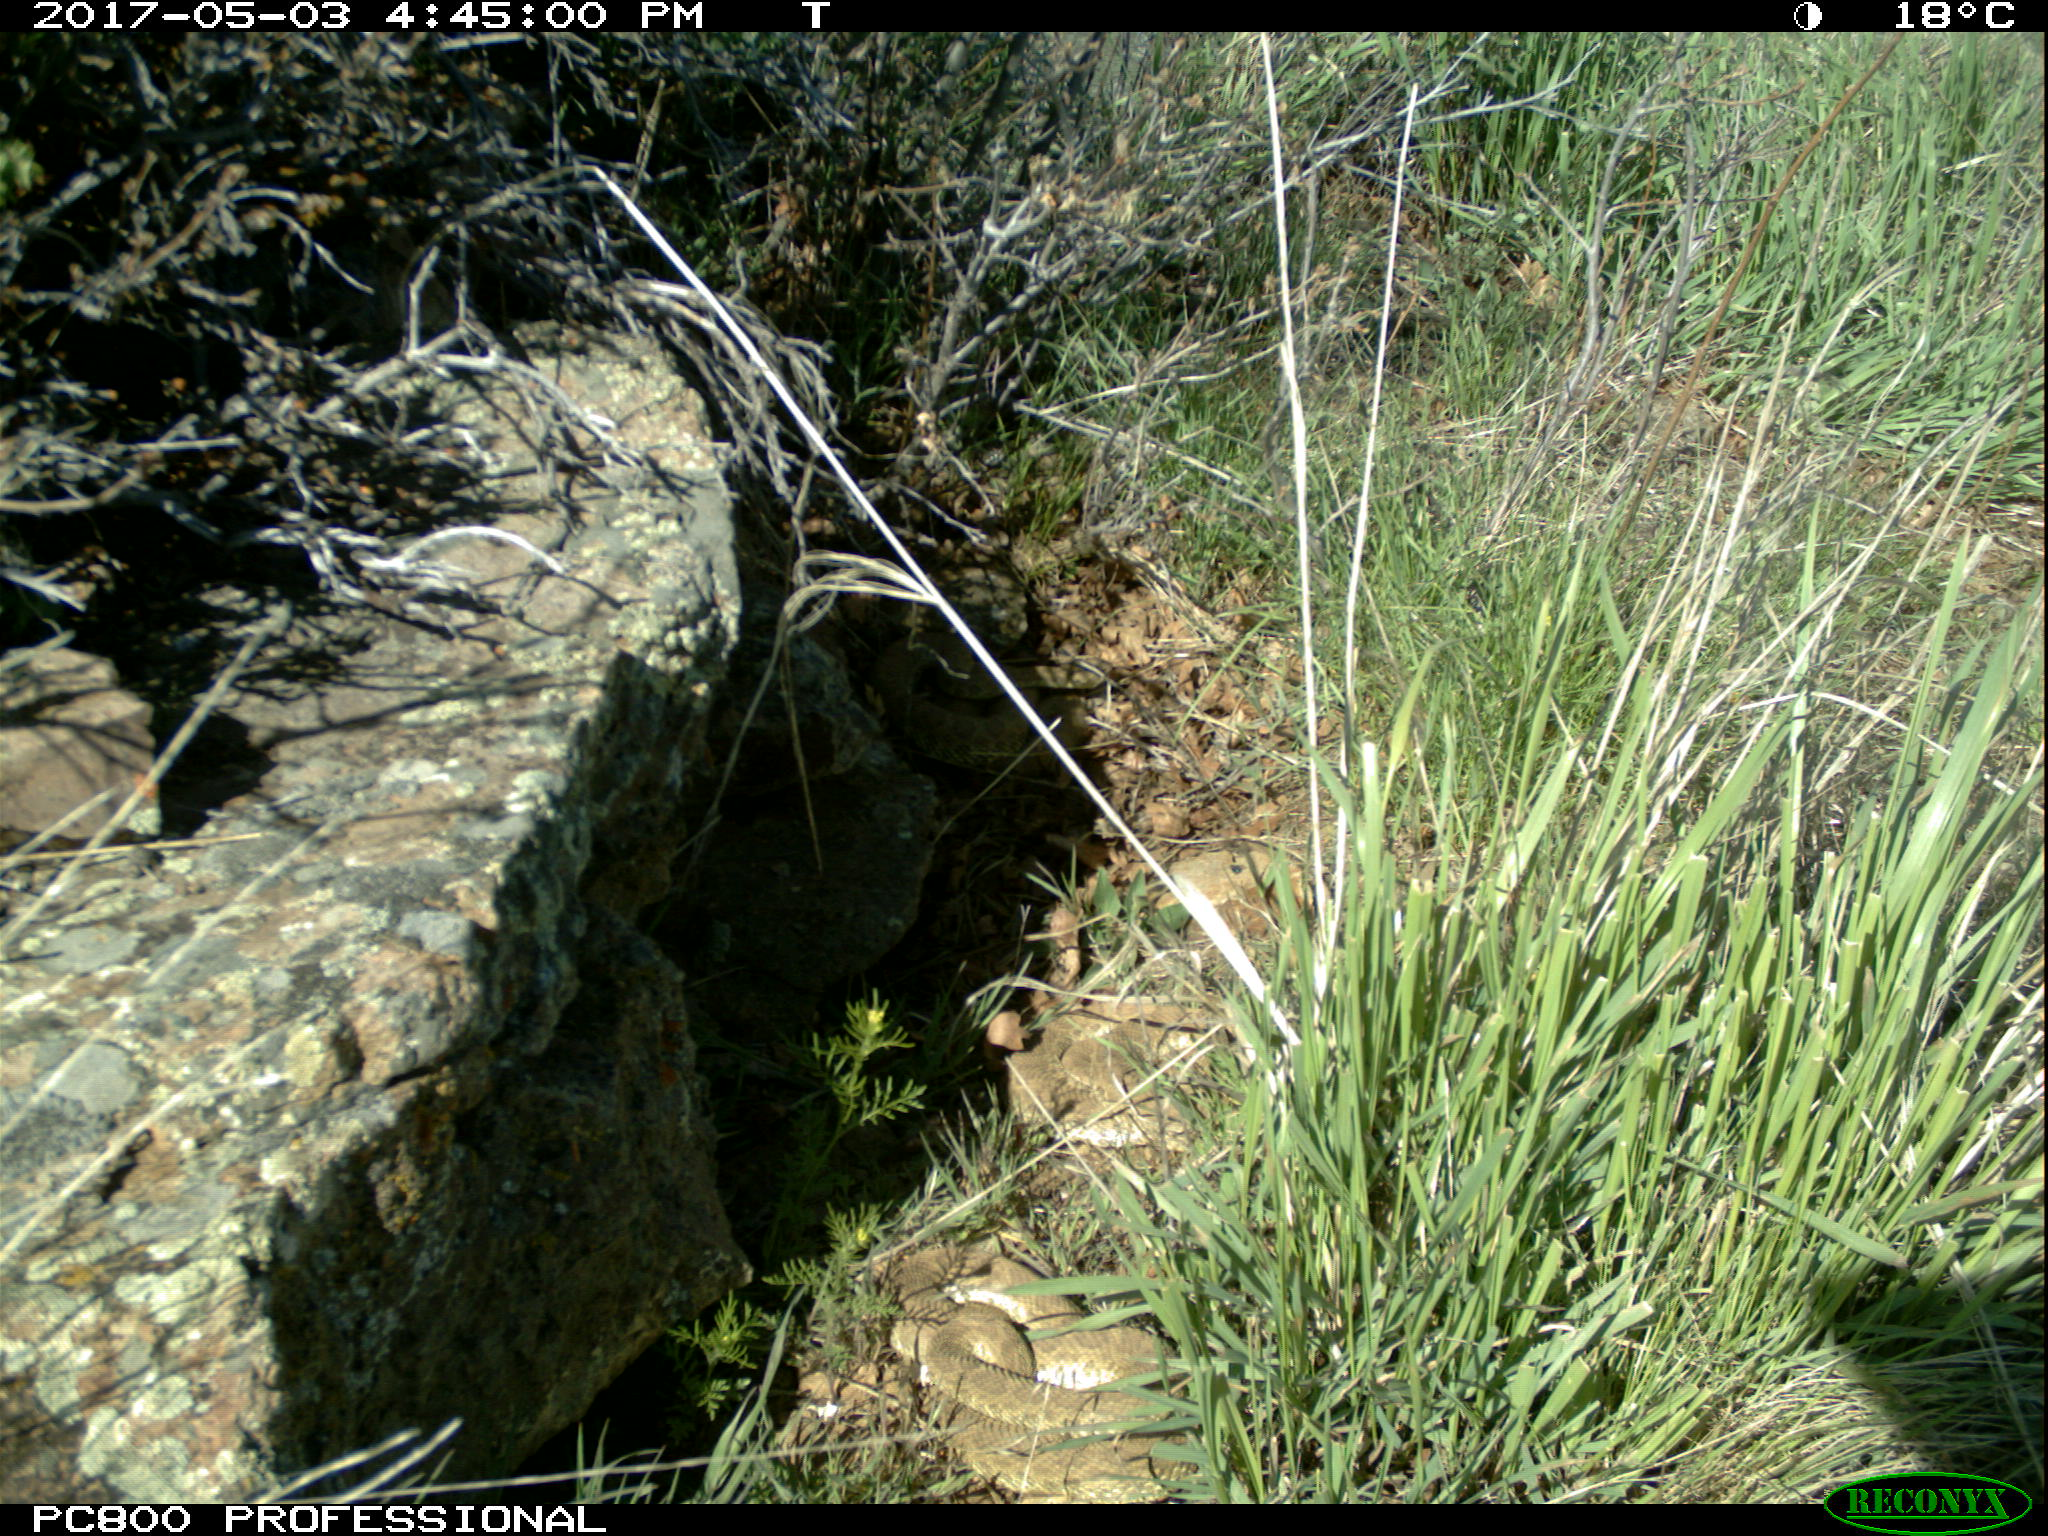snake: (864, 1242, 1209, 1502), (1003, 997, 1251, 1142), (877, 632, 1130, 757)
